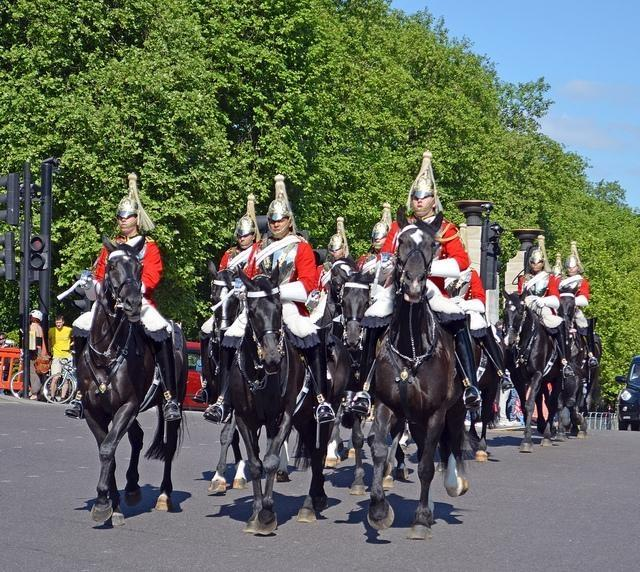bicycle: (42, 350, 76, 404), (10, 370, 23, 399)
car: (183, 340, 210, 411), (616, 357, 639, 430)
